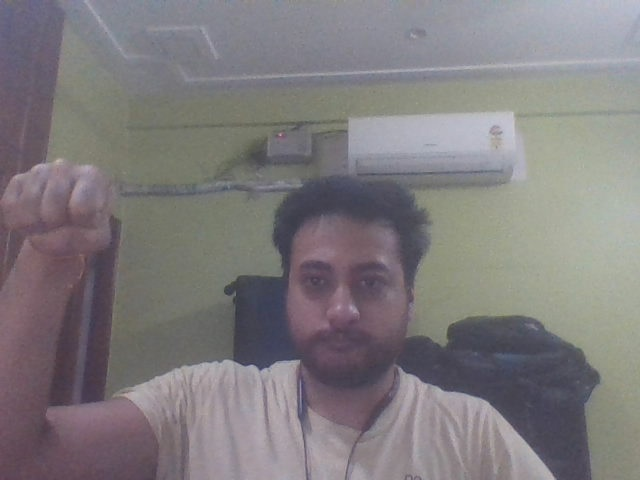Yes: (1, 153, 136, 297)
